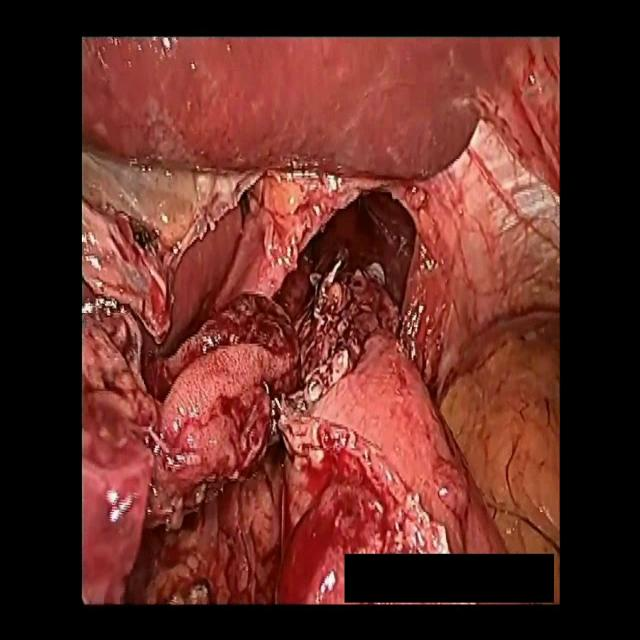surgical-area: (79, 33, 560, 608)
